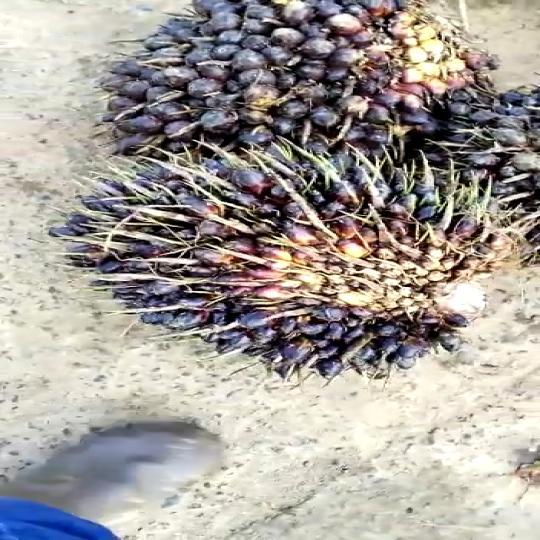mentah: (13, 147, 540, 382), (87, 0, 479, 160)
